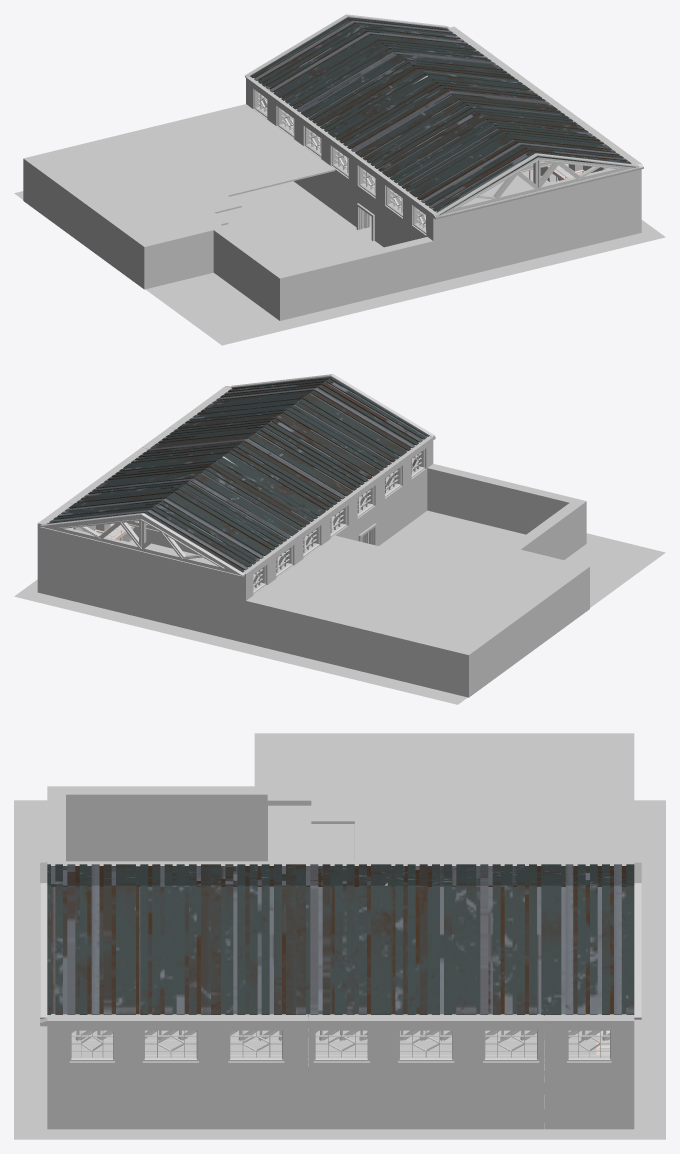
The model's file is Industrial BuildingV3.fbx.
3 renders of one model, top to bottom at view 1: azimuth 30°, elevation 25°; view 2: azimuth 150°, elevation 25°; view 3: azimuth 270°, elevation 25°, orthographic. The views are drawn at different scales.
Parts seen in each view (by area): view 1: MetalRoof.001, Wall, WireFrame, floor, FrontPilars, wall, MetalRoofSupportoutside, Pilars, window, FrontWall; view 2: MetalRoof.001, Wall, WireFrame, FrontPilars, floor, MetalRoofSupportoutside, wall, Pilars, window, FrontWall; view 3: MetalRoof.001, WireFrame, floor, wall, Wall, Pilars, FrontWall, window, FrontPilars, scaffholding, MetalRoofSupportoutside.
Boxes of the visible parts, x1,y1,x2,y2 form: MetalRoof.001: [250, 17, 635, 215]; Wall: [23, 104, 433, 320]; WireFrame: [37, 108, 335, 241]; floor: [14, 170, 665, 345]; FrontPilars: [246, 26, 643, 283]; wall: [274, 47, 611, 247]; MetalRoofSupportoutside: [244, 14, 639, 216]; Pilars: [268, 43, 618, 246]; window: [254, 90, 426, 233]; FrontWall: [252, 31, 635, 240]; MetalRoof.001: [47, 377, 428, 572]; Wall: [246, 464, 589, 697]; WireFrame: [252, 535, 577, 648]; FrontPilars: [37, 386, 435, 643]; floor: [14, 510, 665, 704]; MetalRoofSupportoutside: [40, 374, 434, 577]; wall: [67, 407, 404, 579]; Pilars: [60, 403, 410, 586]; window: [253, 449, 424, 593]; FrontWall: [44, 390, 427, 595]; MetalRoof.001: [47, 864, 634, 1016]; WireFrame: [267, 739, 615, 861]; floor: [14, 800, 665, 1139]; wall: [138, 861, 544, 1129]; Wall: [47, 733, 634, 861]; Pilars: [118, 861, 563, 1129]; FrontWall: [66, 861, 615, 1129]; window: [69, 1030, 611, 1061]; FrontPilars: [40, 861, 634, 1129]; scaffholding: [71, 1016, 609, 1041]; MetalRoofSupportoutside: [40, 862, 641, 1019].
Bounding box in the file's own units: 22 × 27.14 × 6.15.
